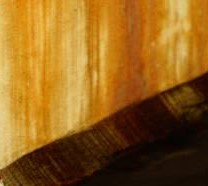Corrosion: (1, 1, 208, 171)
